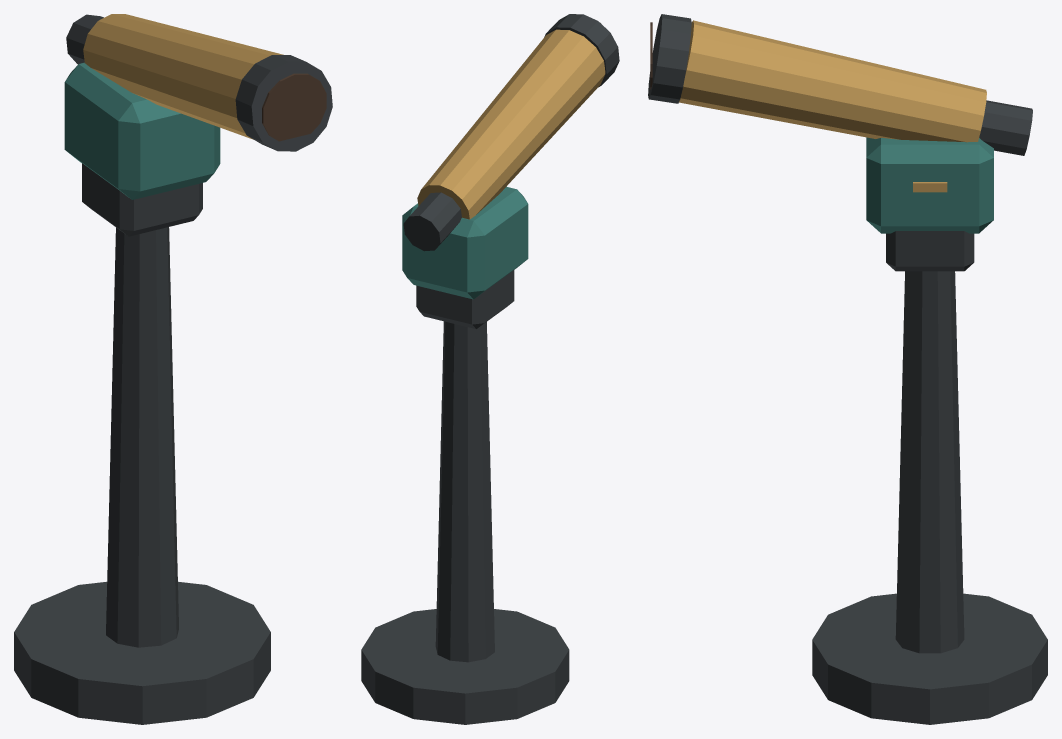
The picture shows the model from 3 angles, left to right: view 1: azimuth 30°, elevation 25°; view 2: azimuth 150°, elevation 25°; view 3: azimuth 270°, elevation 25°; orthographic projection. The views are drawn at different scales.
Visible parts, largest first — view 1: lane_iron, lane_teal, lane_brass, lane_ink; view 2: lane_iron, lane_brass, lane_teal; view 3: lane_iron, lane_brass, lane_teal.
Part boxes in pixels (x1=…): lane_iron: x1=14, y1=14, x2=332, y2=724; lane_teal: x1=64, y1=62, x2=220, y2=199; lane_brass: x1=83, y1=14, x2=283, y2=139; lane_ink: x1=262, y1=73, x2=326, y2=141; lane_iron: x1=361, y1=14, x2=619, y2=724; lane_brass: x1=417, y1=29, x2=605, y2=219; lane_teal: x1=402, y1=186, x2=528, y2=299; lane_iron: x1=648, y1=14, x2=1047, y2=724; lane_brass: x1=679, y1=20, x2=986, y2=192; lane_teal: x1=866, y1=137, x2=993, y2=233.
Bounding box in the file's own units: 0.48 × 1.48 × 0.8145.
